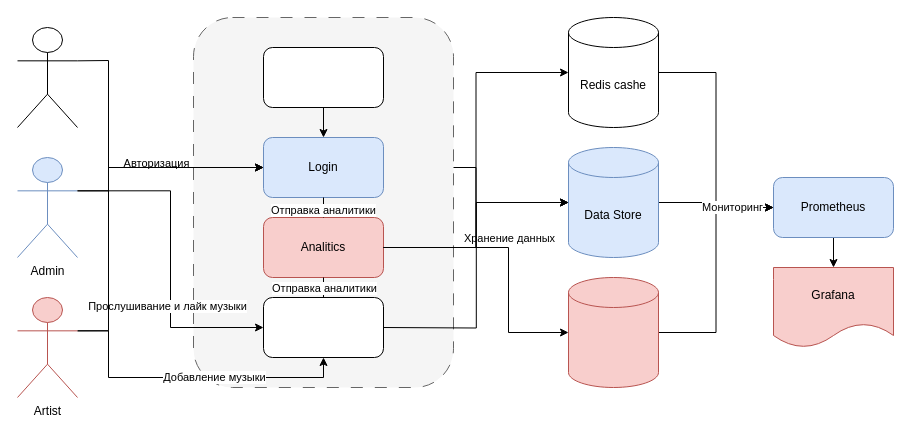
This 911x436 diagram has some shape labels left out. The shapes that lost their labels are listed below. From the top down, each one's box as (x1, y1, x2, y2) in pixels, then its label:
(16, 26, 78, 128): User
(262, 46, 384, 108): API routers
(262, 296, 384, 358): Musics service
(568, 276, 658, 388): C lickHouse
